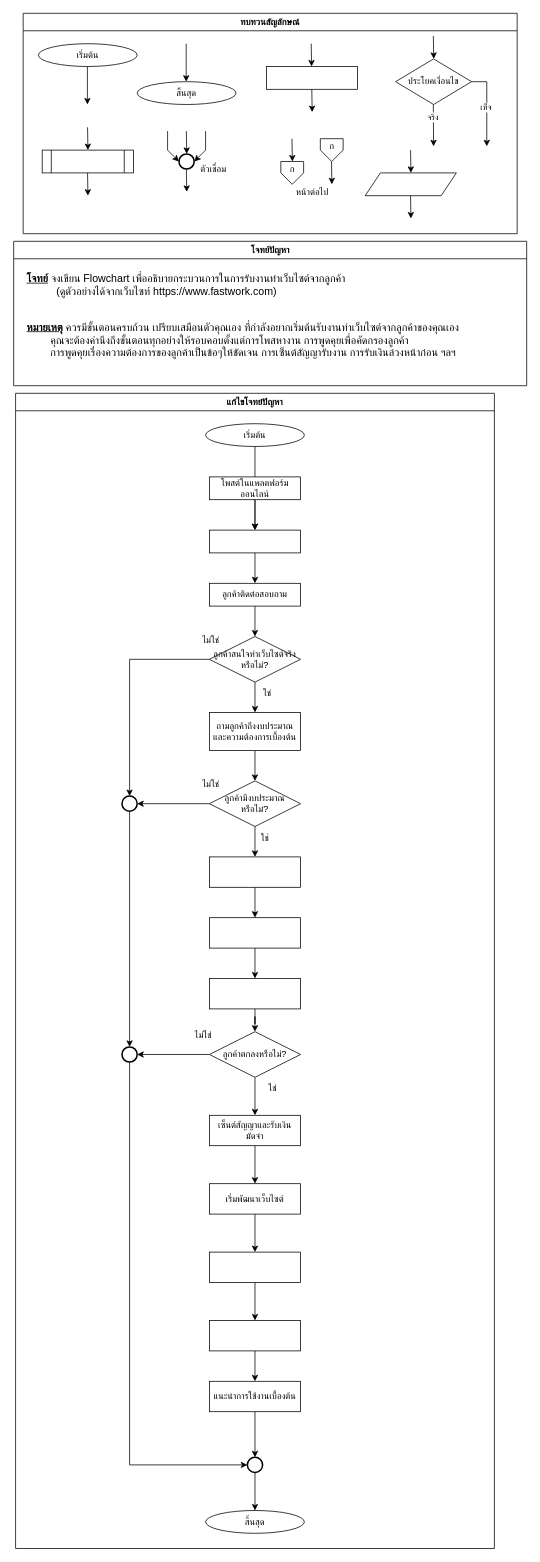
Image size: 540x1562. Some labels were removed from this diagram. Here are the shapes that lost their labels. From the top down, the centre of each, then its label:
At point (312, 77): "กระบวนการ".
At point (87, 161): "ฟังก์ชัน/โมดูล".
At point (410, 184): "แสดงผล/รับค่า".
At point (255, 541): "แสดงตัวอย่างงานที่ผ่านมา พร้อมข้อมูลติดต่อ".
At point (255, 871): "พูดคุยความต้องการของลูกค้า".
At point (255, 932): "เสนอราคาและระยะเวลา".
At point (255, 993): "ส่งใบเสนอราคา".
At point (255, 1266): "ส่งมอบงานและทดสอบเว็บไซต์".
At point (255, 1335): "ปิดงาน".
